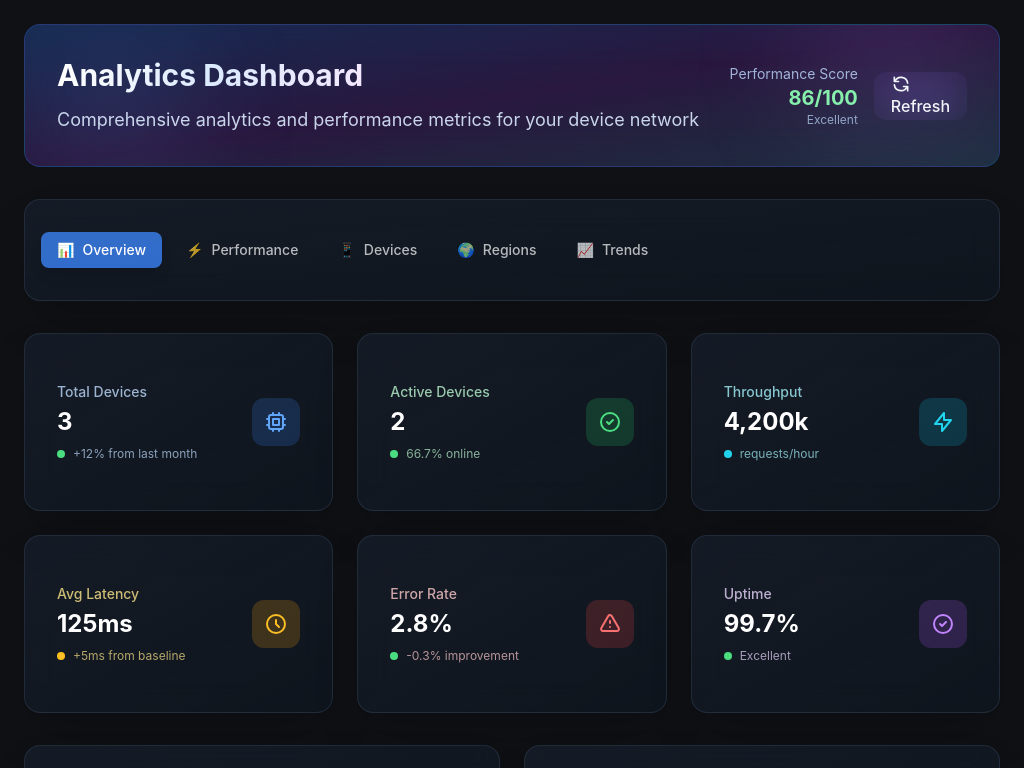
Test: Analytics - Refresh Functionality › should handle API errors gracefully
// Click refresh to trigger error
Step 1. Click the button "Refresh" → (920, 96), box [874, 72, 967, 120]
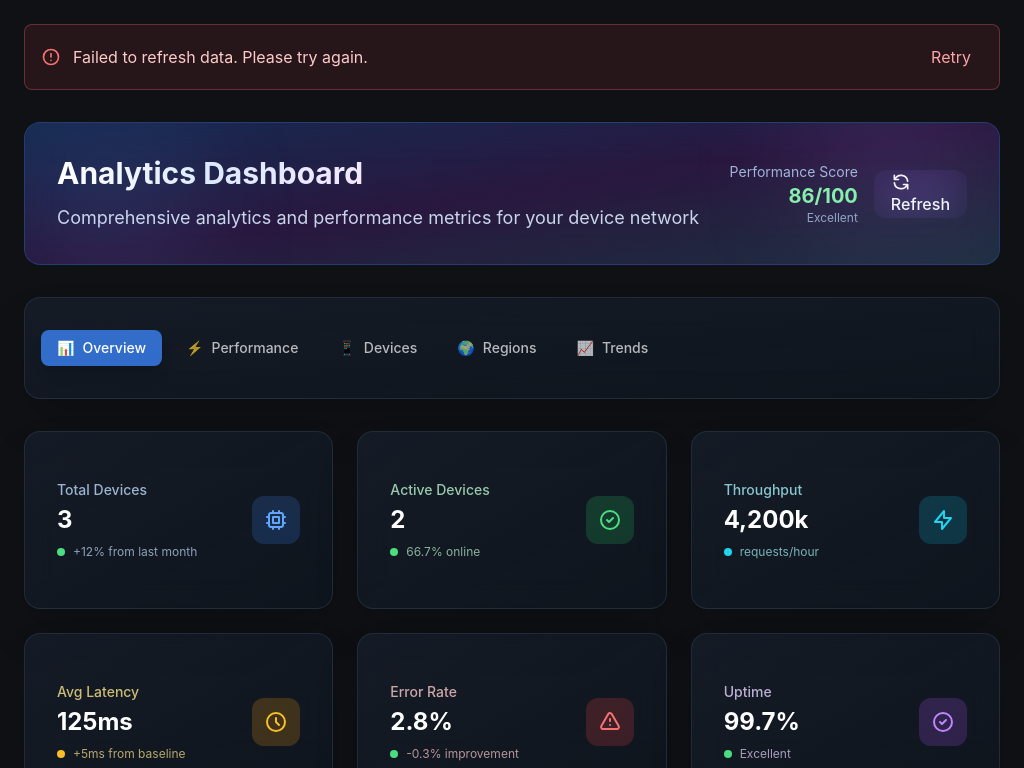
Expected: the text "Failed to refresh data. Please try again." is shown, [73, 47, 368, 67]
Expected: the button "Retry" is shown, [919, 41, 983, 73]
